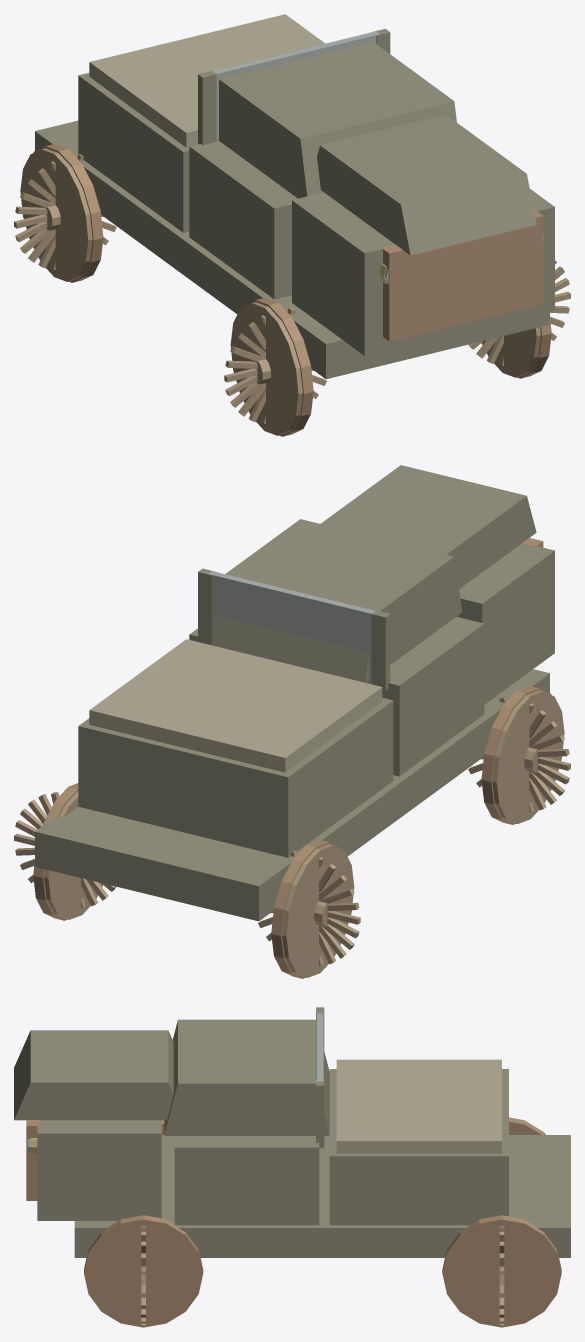
Rendered from trench-line-1917-staff-car-2371154f__24124.glb.
3 renders of one model, top to bottom at view 1: azimuth 30°, elevation 25°; view 2: azimuth 150°, elevation 25°; view 3: azimuth 270°, elevation 25°, orthographic. The views are drawn at different scales.
Parts seen in each view (by area): view 1: staff-car; view 2: staff-car; view 3: staff-car.
Boxes of the visible parts, x1,y1,x2,y2 form: staff-car: (14,14,570,436); staff-car: (14,465,570,978); staff-car: (14,1007,570,1327).
Bounding box in the file's own units: 2.46 × 1.85 × 4.04.
